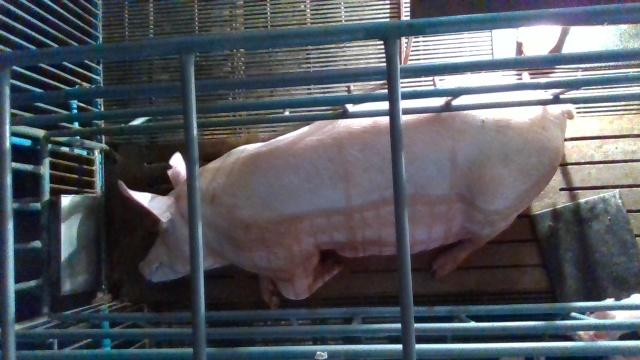piglet: (574, 294, 640, 342)
sow-sleep: (119, 90, 574, 311)
